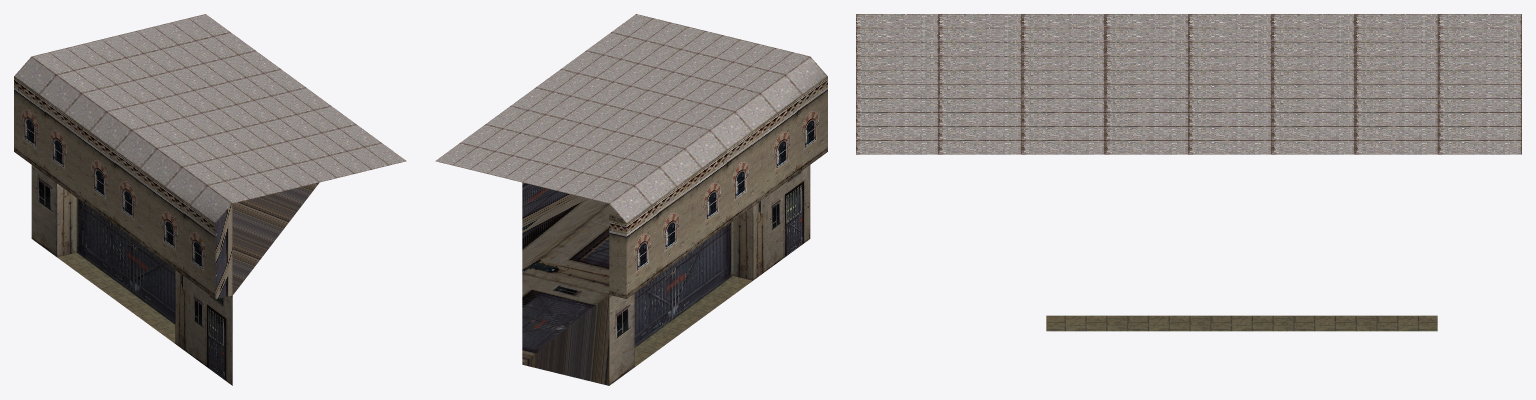
Rendered from M2Zone1_Garage3.glb.
3 renders of one model, left to right at view 1: azimuth 30°, elevation 25°; view 2: azimuth 150°, elevation 25°; view 3: azimuth 270°, elevation 25°, orthographic. The views are drawn at different scales.
Visible parts, largest first — view 1: M2ZONE1_GARAGE3; view 2: M2ZONE1_GARAGE3; view 3: M2ZONE1_GARAGE3.
Part boxes in pixels (x1,y1,x2,y2): M2ZONE1_GARAGE3: (14,14,406,385); M2ZONE1_GARAGE3: (435,14,827,385); M2ZONE1_GARAGE3: (856,14,1521,331).
Size of the model in its own units: 8.8 by 8 by 16.
6 materials, 6 textured.
